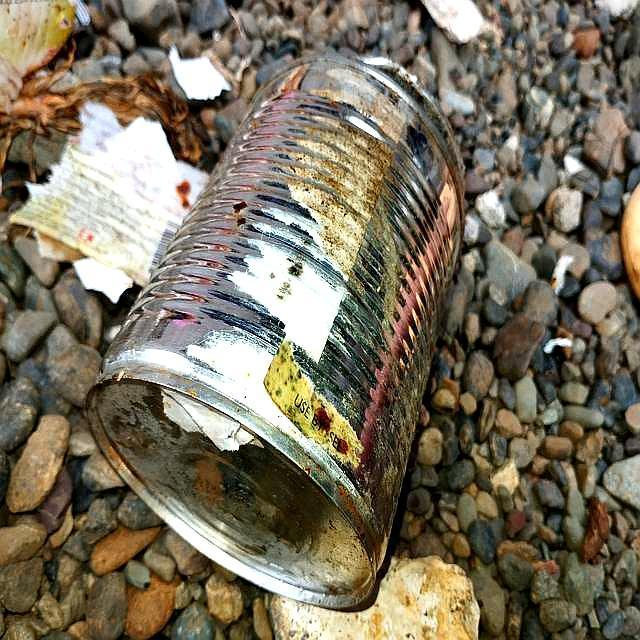Non-biodegradable: (84, 49, 469, 612)
